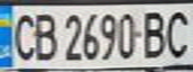0: (115, 9, 142, 61)
2: (57, 9, 84, 62)
6: (78, 10, 103, 62)
9: (96, 9, 121, 61)
B: (27, 9, 60, 63), (139, 7, 172, 60)
C: (160, 6, 193, 60), (6, 9, 39, 62)
